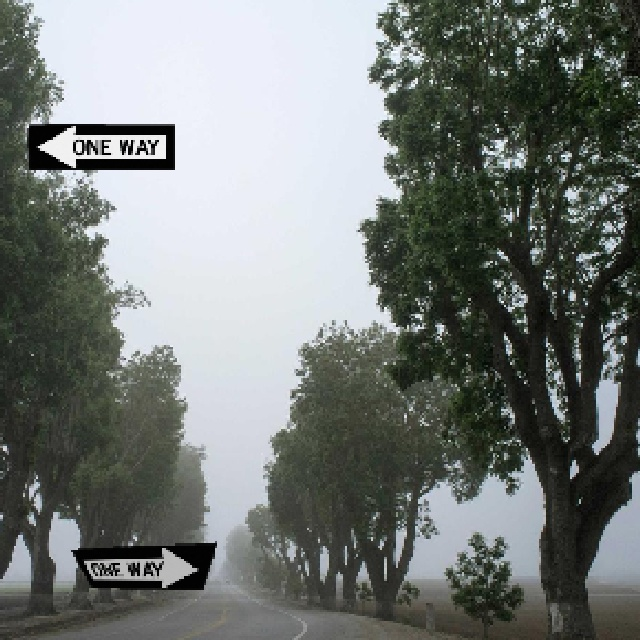ONE_WAY_ left: (26, 122, 174, 169)
ONE_WAY_ right: (68, 540, 216, 589)
